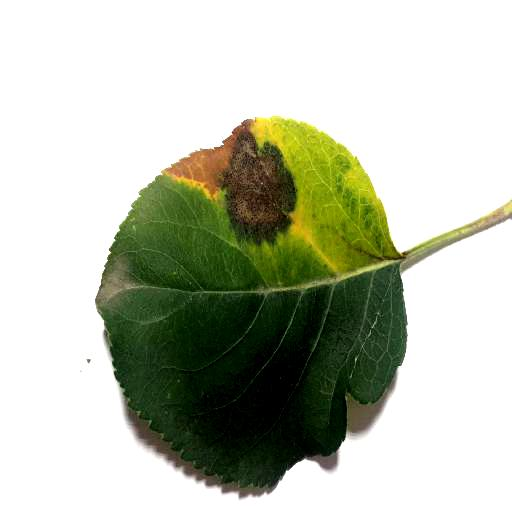Brown_Spot: (164, 128, 305, 244)
